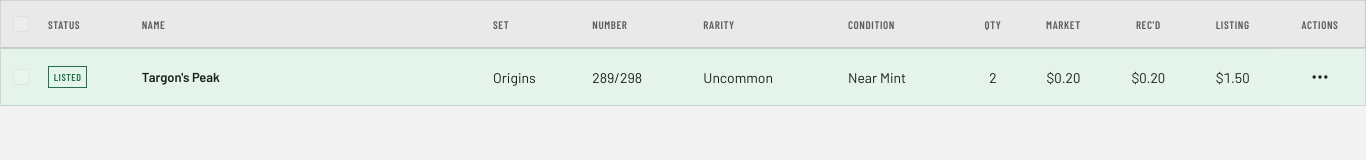
CardTable display-first listing price editing › restores the original value when cancelled by button or Escape without saving
Click the button named "edit listing price" at (1233, 77), box x1=1216 y1=68 x2=1250 y2=86
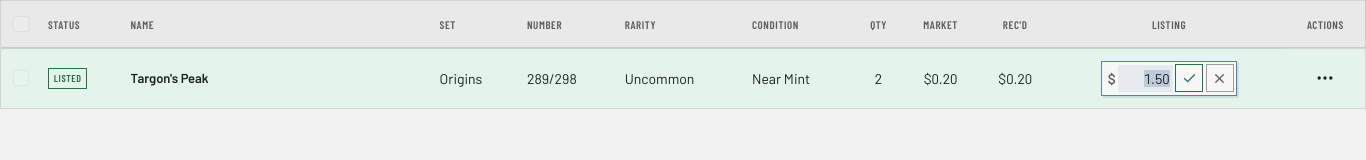
Replace the text in the field named "listing price" with "4.00" at (1145, 78), box x1=1118 y1=65 x2=1173 y2=92
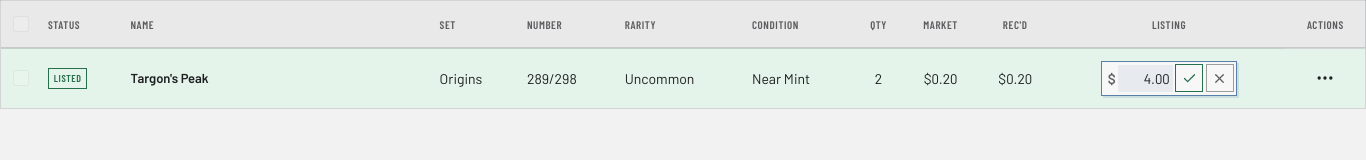
Click the button named "cancel editing listing price" at (1220, 78), box x1=1206 y1=64 x2=1234 y2=92
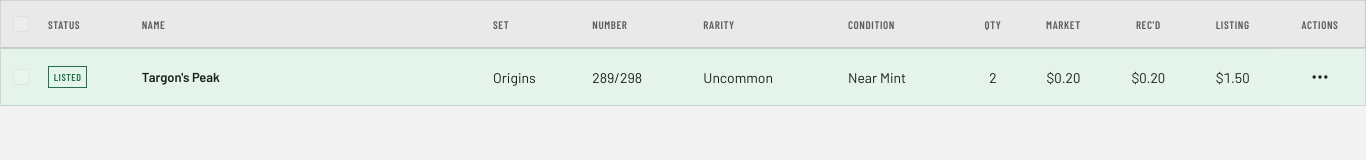
Now the button named "currently $1.50" reads "$1.50"
Click the button named "edit listing price" at (1233, 77), box x1=1216 y1=68 x2=1250 y2=86
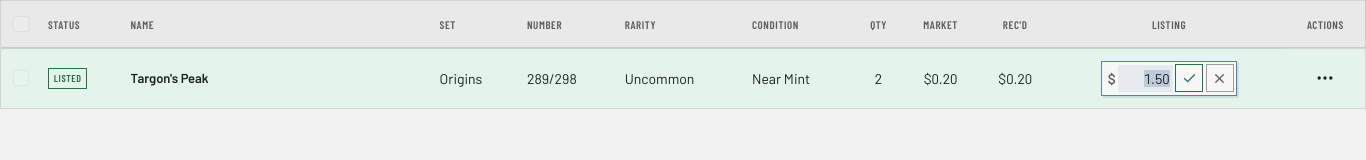
Press Escape
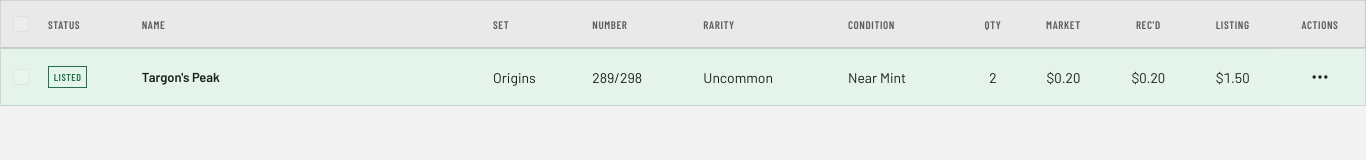
Now the button named "currently $1.50" is shown, box x1=1216 y1=68 x2=1250 y2=86
